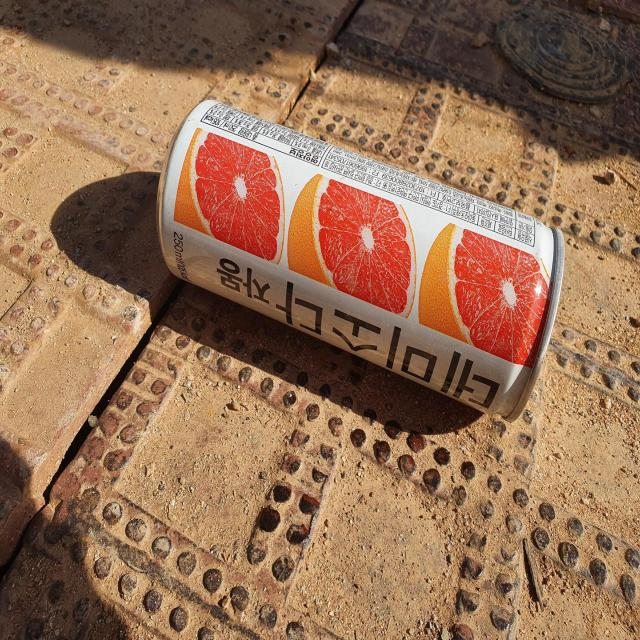can: (157, 100, 565, 421)
